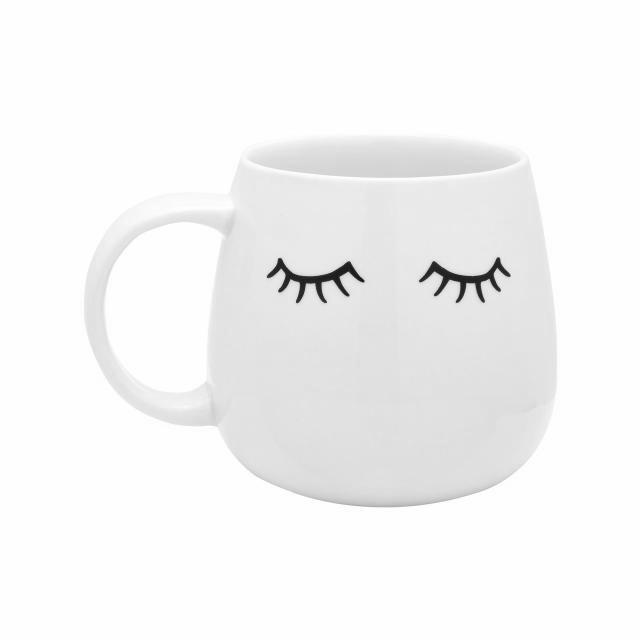real: (251, 227, 542, 323)
